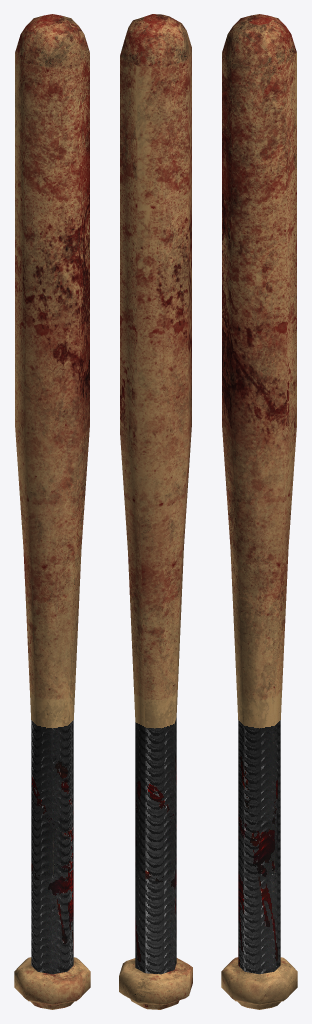
The model's file is bat.glb.
The picture shows the model from 3 angles, left to right: view 1: azimuth 90°, elevation 25°; view 2: azimuth 150°, elevation 25°; view 3: azimuth 270°, elevation 25°; orthographic projection.
Visible parts, largest first — view 1: BaseballBat_Raw_Wood(Blood); view 2: BaseballBat_Raw_Wood(Blood); view 3: BaseballBat_Raw_Wood(Blood).
Part boxes in pixels (left/top/right/bottom): BaseballBat_Raw_Wood(Blood): left=14, top=14, right=90, bottom=1009; BaseballBat_Raw_Wood(Blood): left=119, top=14, right=192, bottom=1009; BaseballBat_Raw_Wood(Blood): left=221, top=14, right=297, bottom=1009.
Size of the model in its own units: 0.0592 by 0.8403 by 0.0592.
Materials: 1 (1 with a texture image).
